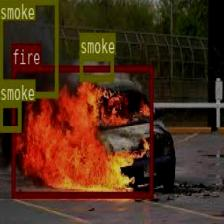fire: (11, 64, 152, 196)
smoke: (0, 0, 58, 96), (79, 54, 113, 80), (0, 100, 21, 132)
